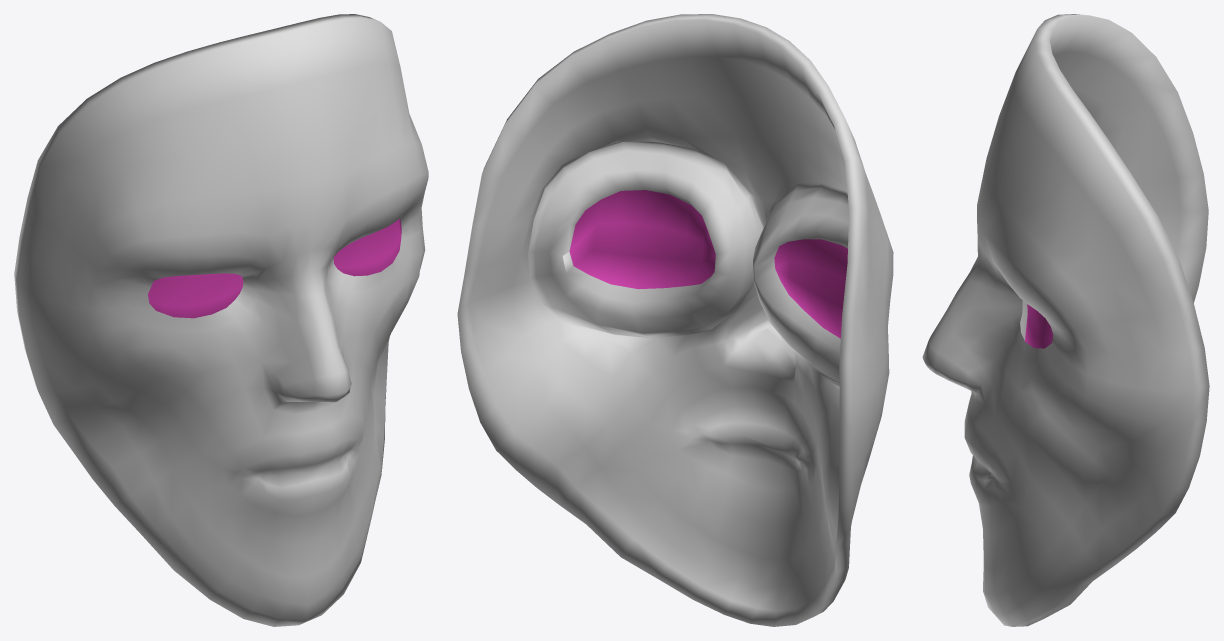
Rendered from Mask.fbx.
3 renders of one model, left to right at view 1: azimuth 30°, elevation 25°; view 2: azimuth 150°, elevation 25°; view 3: azimuth 270°, elevation 25°, orthographic. The views are drawn at different scales.
Visible parts, largest first — view 1: Mask_LP; view 2: Mask_LP; view 3: Mask_LP.
Boxes of the visible parts, box(x1,y1,x2,y2) form: Mask_LP: box(14, 14, 428, 626); Mask_LP: box(457, 14, 893, 626); Mask_LP: box(922, 14, 1209, 626).
Size of the model in its own units: 95.93 by 141 by 63.61.
